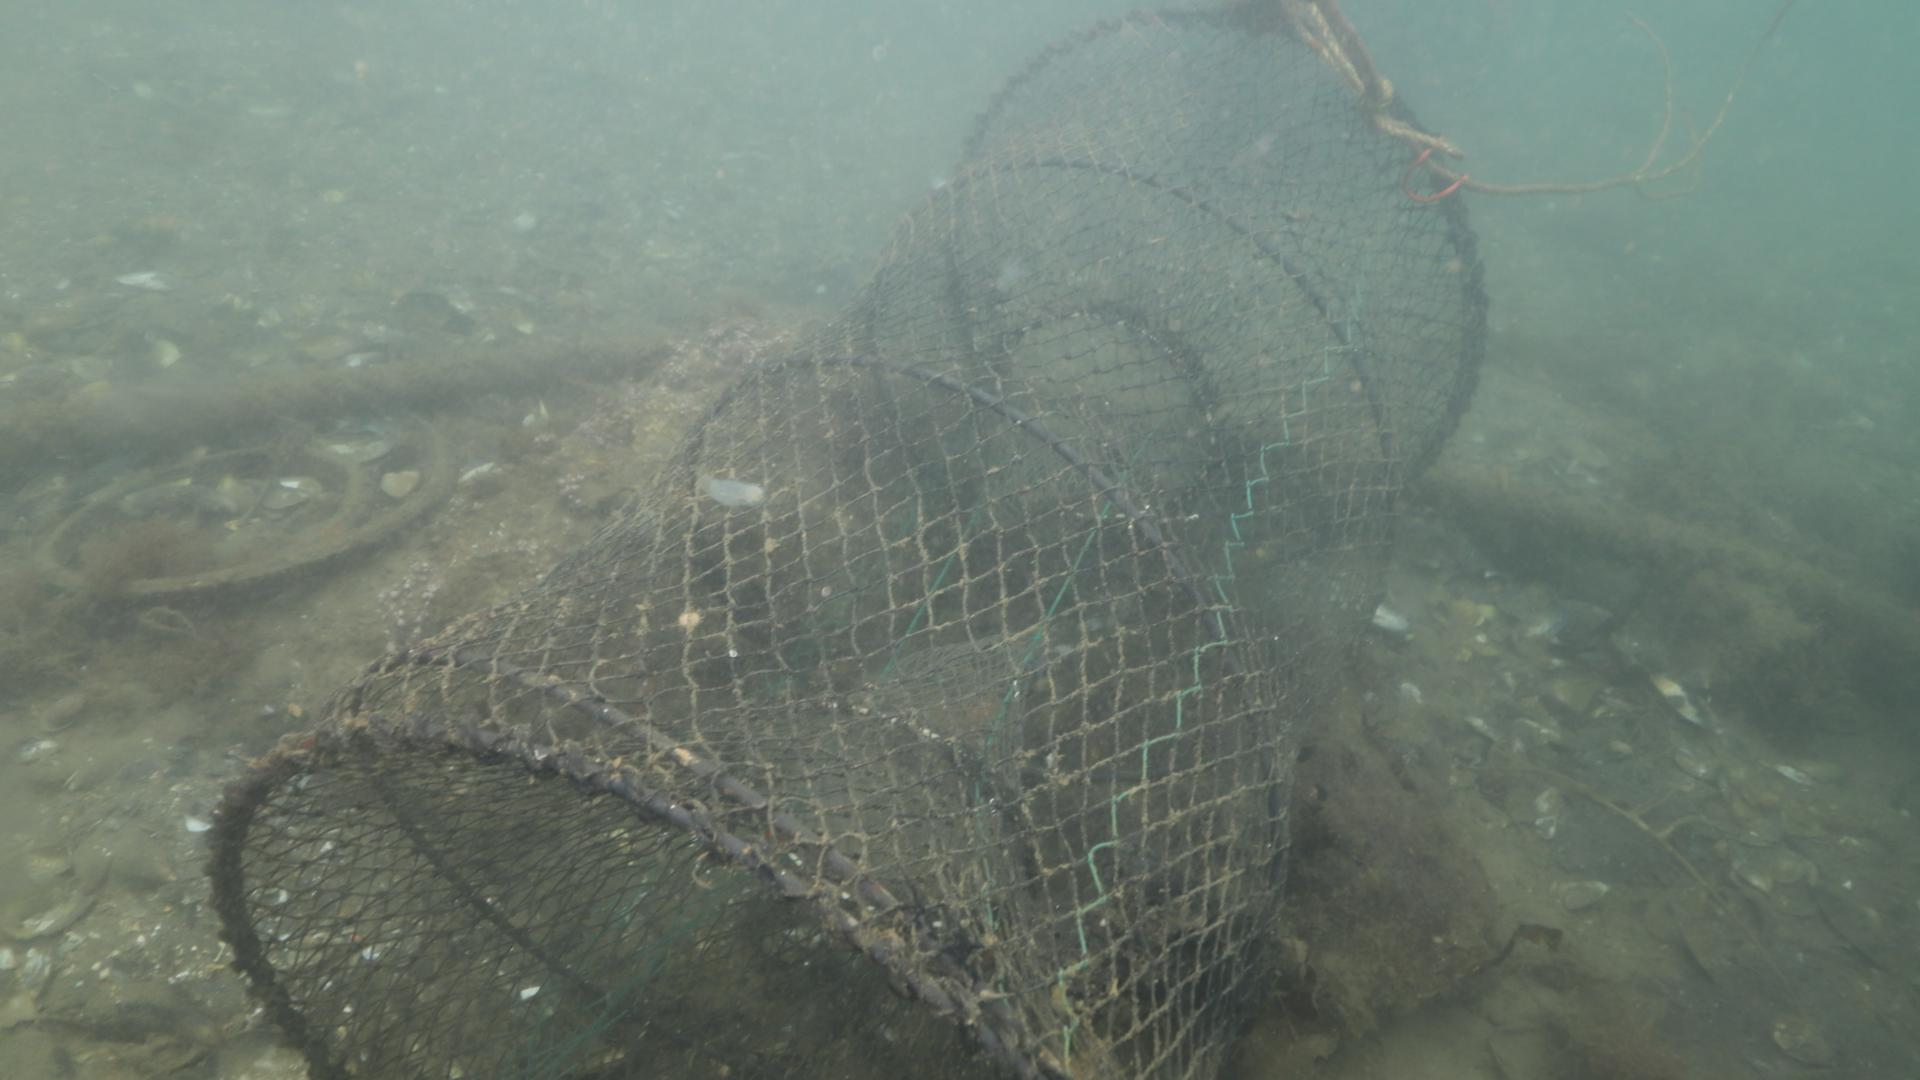spring fish trap: (203, 7, 1495, 1080)
